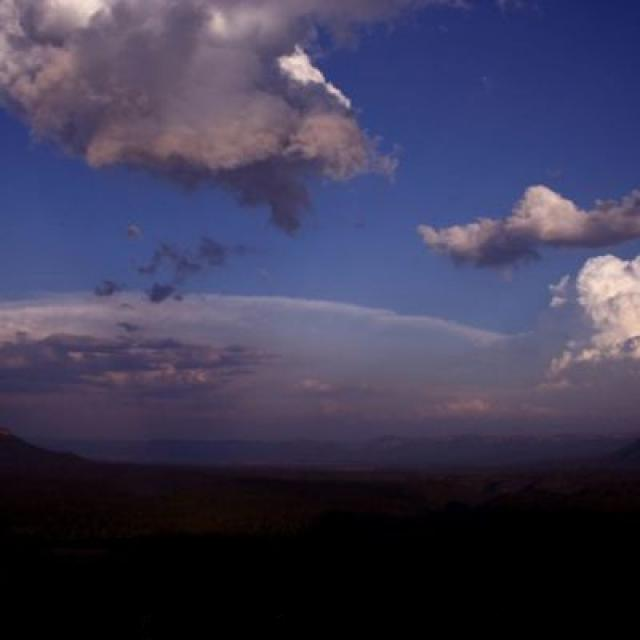Cb: (1, 1, 640, 410)
